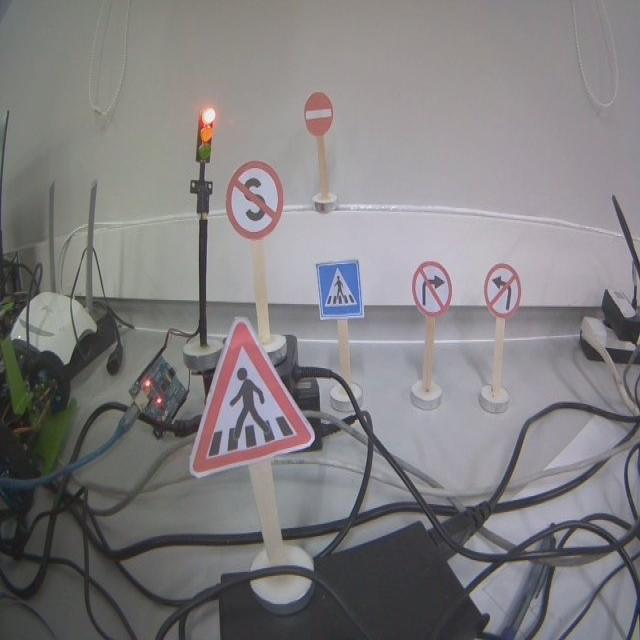Dilarang Belok Kanan: (412, 261, 452, 315)
Dilarang Belok Kiri: (484, 264, 521, 316)
Dilarang Masuk: (303, 92, 333, 136)
Lampu Merah: (196, 106, 215, 162)
Rambu Berhenti: (227, 162, 283, 238)
Rambu Penyebrangan: (190, 318, 313, 474), (316, 260, 363, 319)
